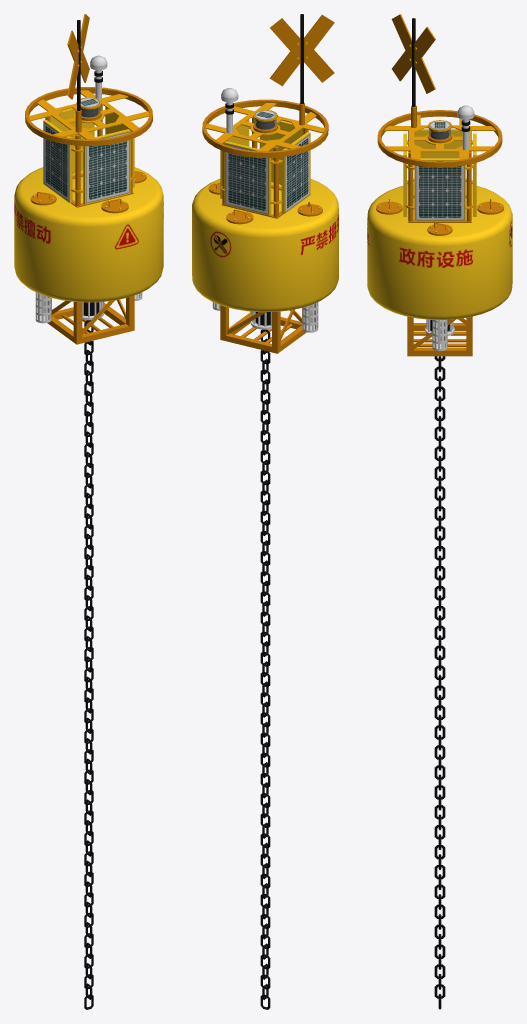
Rendered from device.obj.
3 views of the same model, side by side, from view 1: azimuth 30°, elevation 25°; view 2: azimuth 150°, elevation 25°; view 3: azimuth 270°, elevation 25° (orthographic). The views are drawn at different scales.
Parts seen in each view (by area): view 1: ChamferCyl001, Box001, Tube001, Box007, Rectangle072, Box002, Box003, Rectangle077, Cylinder064, Box004, Rectangle076, Cylinder017; view 2: ChamferCyl001, Box003, Tube001, Rectangle072, Box002, Box007, Rectangle076, Rectangle077, Box001, Cylinder064, Box004, Cylinder019 (+1 smaller); view 3: ChamferCyl001, Box004, Tube001, Rectangle072, Box007, Rectangle076, Rectangle077, Box002, Cylinder065.
Part boxes in pixels (x1,y1,x2,y2): ChamferCyl001: [14, 167, 163, 302]; Box001: [83, 129, 130, 204]; Tube001: [25, 87, 152, 146]; Box007: [47, 295, 134, 344]; Rectangle072: [28, 90, 149, 139]; Box002: [43, 119, 72, 202]; Box003: [50, 108, 94, 172]; Rectangle077: [67, 30, 78, 99]; Cylinder064: [35, 292, 51, 323]; Box004: [105, 107, 134, 187]; Rectangle076: [80, 14, 89, 82]; Cylinder017: [75, 134, 80, 205]; ChamferCyl001: [192, 179, 338, 312]; Box003: [224, 141, 271, 215]; Tube001: [202, 99, 328, 157]; Rectangle072: [206, 103, 324, 151]; Box002: [281, 132, 310, 213]; Box007: [220, 305, 306, 353]; Rectangle076: [270, 18, 300, 86]; Rectangle077: [304, 14, 334, 82]; Box001: [259, 120, 303, 184]; Cylinder064: [302, 302, 318, 332]; Box004: [220, 119, 249, 198]; Cylinder019: [273, 146, 278, 216]; ChamferCyl001: [367, 183, 512, 319]; Box004: [414, 158, 465, 221]; Tube001: [377, 110, 502, 167]; Rectangle072: [384, 114, 495, 159]; Box007: [407, 316, 472, 356]; Rectangle076: [414, 26, 435, 93]; Rectangle077: [391, 14, 411, 81]; Box002: [414, 129, 462, 158]; Cylinder065: [432, 320, 447, 351].
Bounding box in the file's own units: 990 × 7368 × 990.
